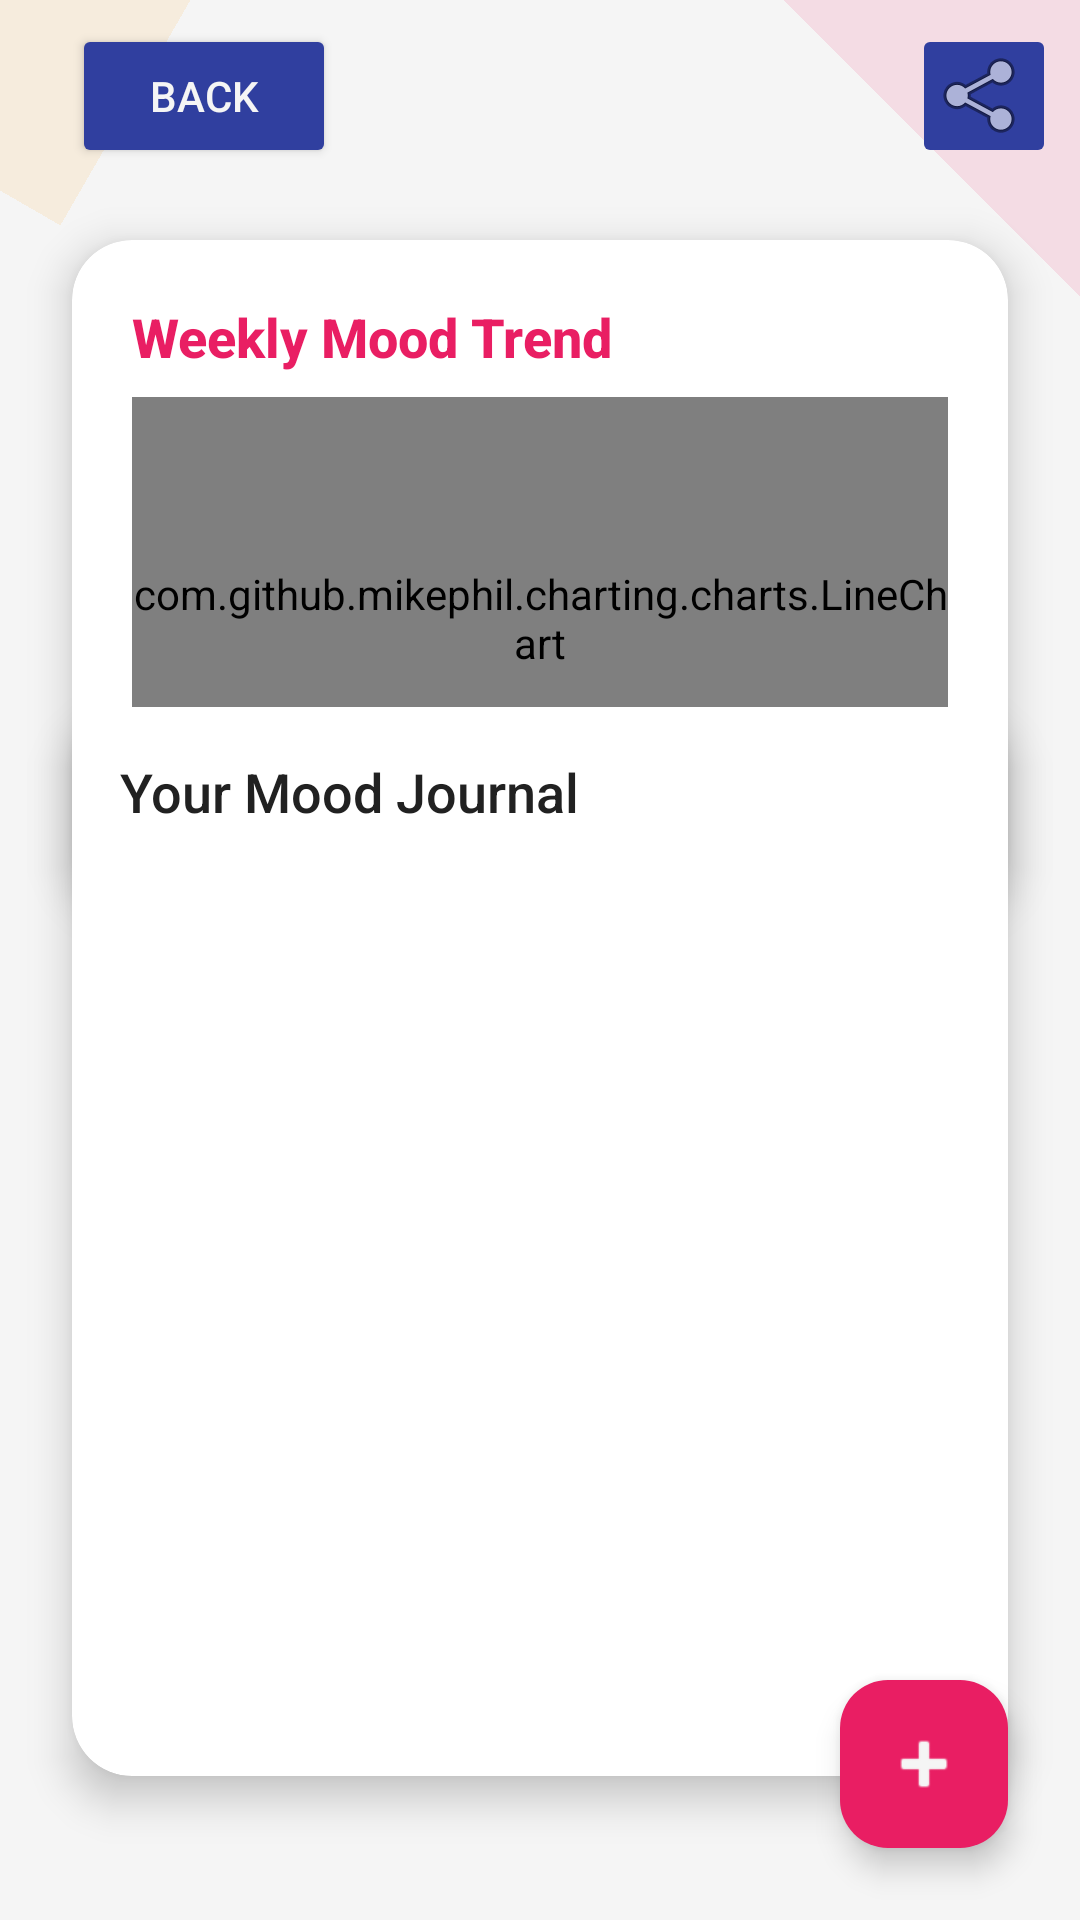

Icons on this 1080px×1920px Android screen, each with the point to tap as point (x, y):
Add Mood: point (924, 1764)
Share Mood Summary: point (978, 105)
